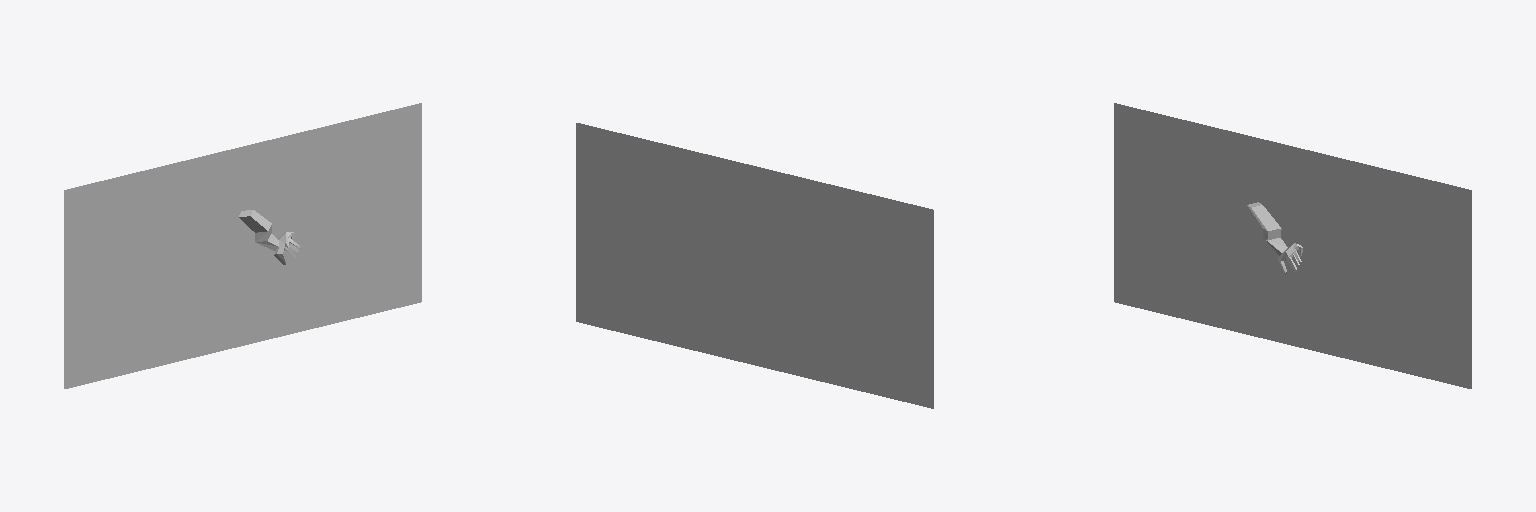
Rendered from hand.obj.
3 views of the same model, side by side, from view 1: azimuth 30°, elevation 25°; view 2: azimuth 150°, elevation 25°; view 3: azimuth 330°, elevation 25° (orthographic).
Visible parts, largest first — view 1: GoldenArm2, Cube; view 2: GoldenArm2; view 3: GoldenArm2, Cube.
Part boxes in pixels (left/top/right/bottom): GoldenArm2: left=64, top=103, right=421, bottom=388; Cube: left=239, top=210, right=300, bottom=264; GoldenArm2: left=576, top=123, right=933, bottom=408; GoldenArm2: left=1114, top=103, right=1471, bottom=388; Cube: left=1247, top=202, right=1302, bottom=273.
Size of the model in its own units: 22.58 by 12.03 by 2.91.